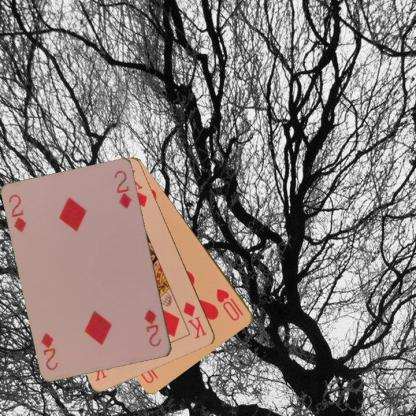10h: (214, 286, 245, 322)
2d: (141, 307, 164, 348), (6, 192, 28, 234)
Kd: (180, 300, 209, 340)
